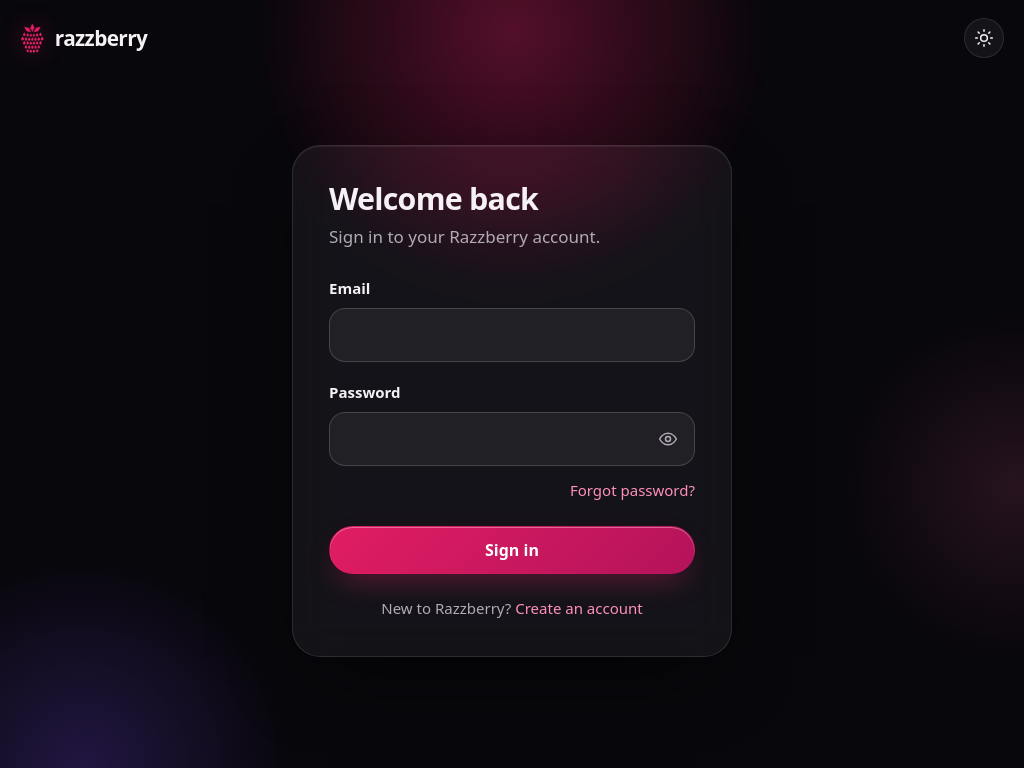
Scenario: sign in › shows friendly validation errors for empty fields
This screenshot has width=1024, height=768.
Click the button "Sign in": (512, 550) [329,526,695,574]
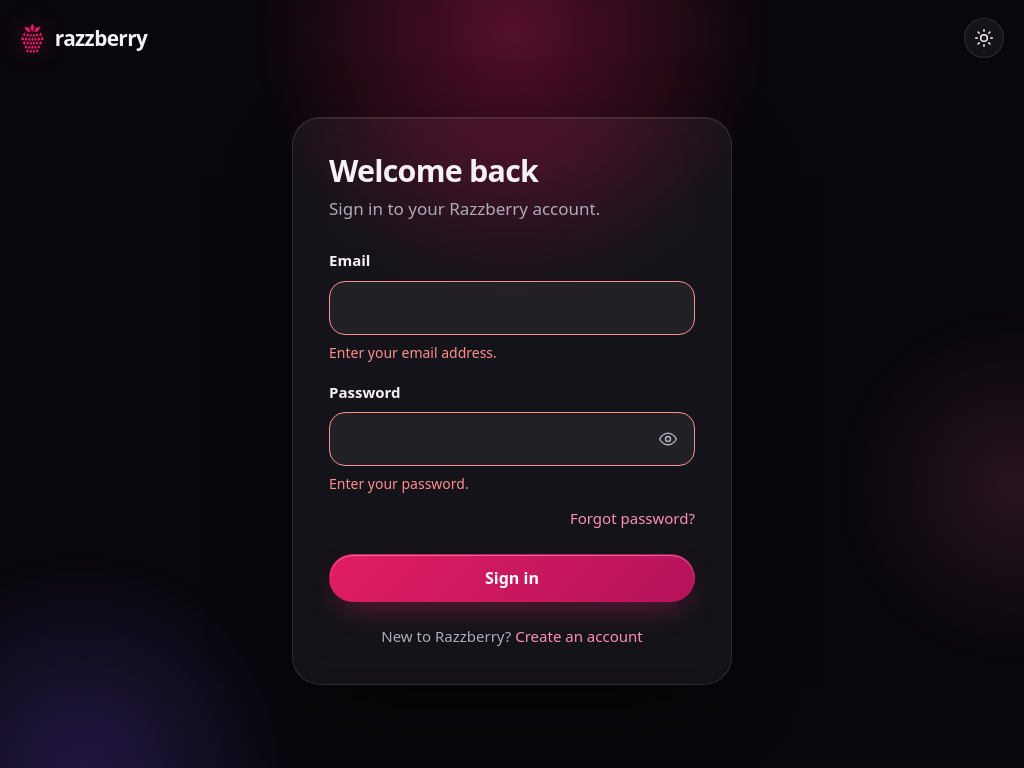
Check: the text "Enter your email address." is shown, box [329,343,497,362]
Check: the text "Enter your password." is shown, box [329,474,469,493]
